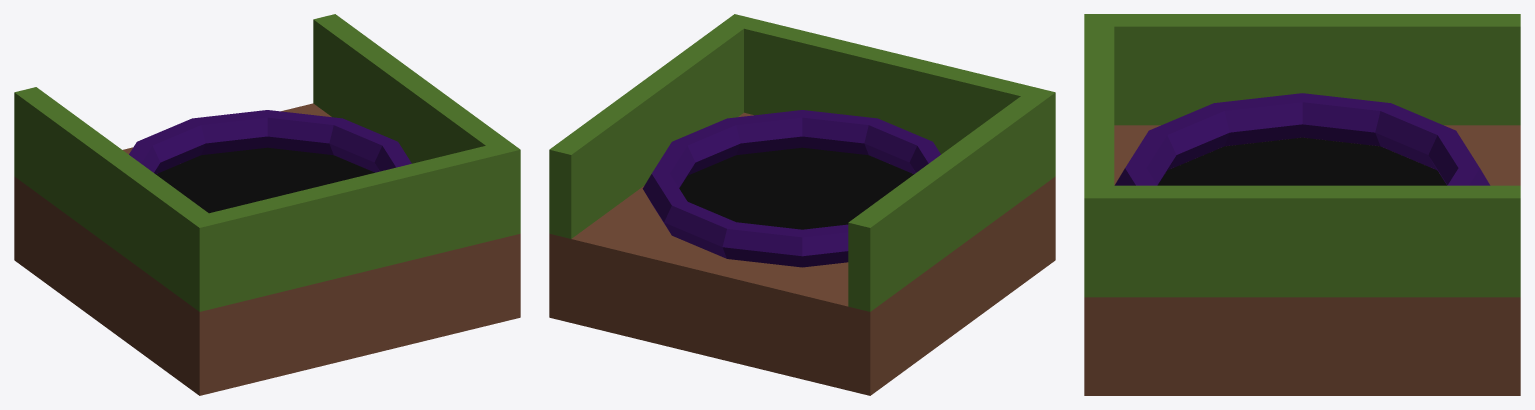
File: Portal1.fbx
3 renders of one model, left to right at view 1: azimuth 30°, elevation 25°; view 2: azimuth 150°, elevation 25°; view 3: azimuth 270°, elevation 25°, orthographic. The views are drawn at different scales.
Visible parts, largest first — view 1: Portal1; view 2: Portal1; view 3: Portal1.
Part boxes in pixels (box(x1,y1,x2,y2)): Portal1: box(14, 14, 520, 395); Portal1: box(549, 14, 1055, 395); Portal1: box(1084, 14, 1520, 395).
Size of the model in its own units: 100 by 50 by 100.
